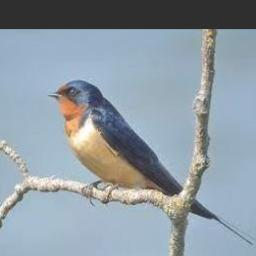Swallow: (48, 79, 256, 244)
